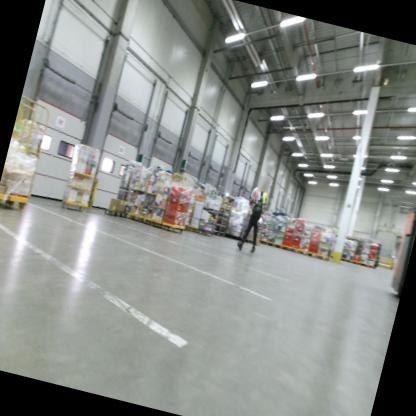pallet_truck: (384, 195, 416, 300)
